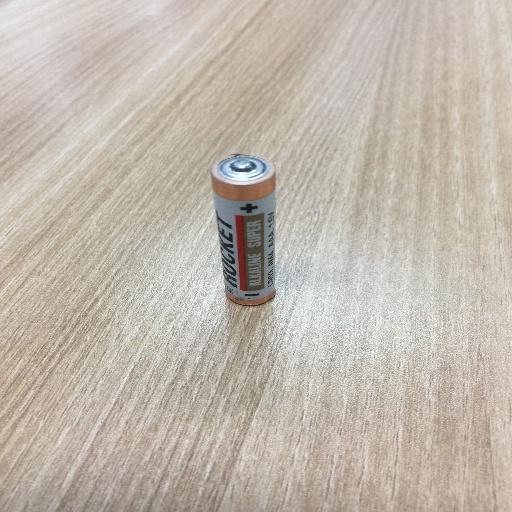Battery_0: (204, 145, 293, 318)
